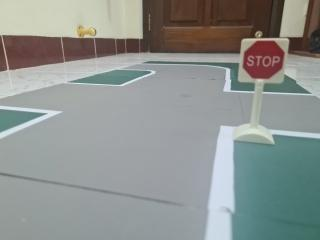stop: (239, 35, 298, 89)
